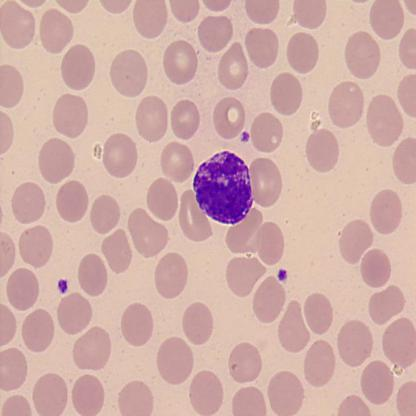Basophil: (192, 148, 255, 227)
